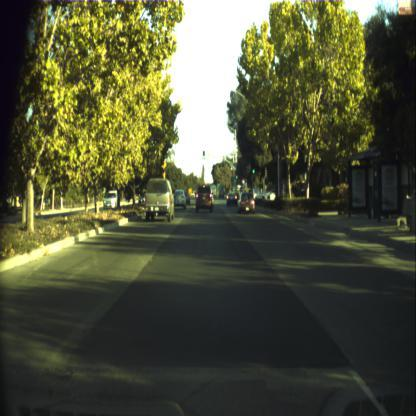Green: (251, 160, 255, 174), (236, 170, 238, 179), (202, 150, 204, 158)
